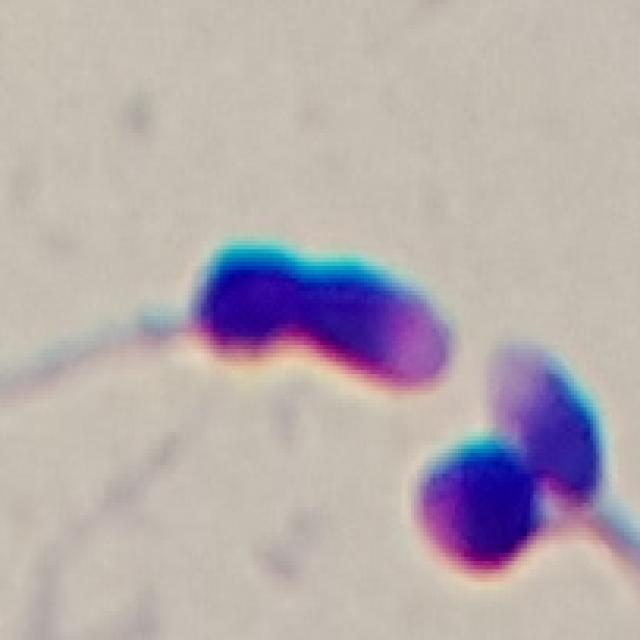abnormal sperm: (45, 228, 463, 408)
